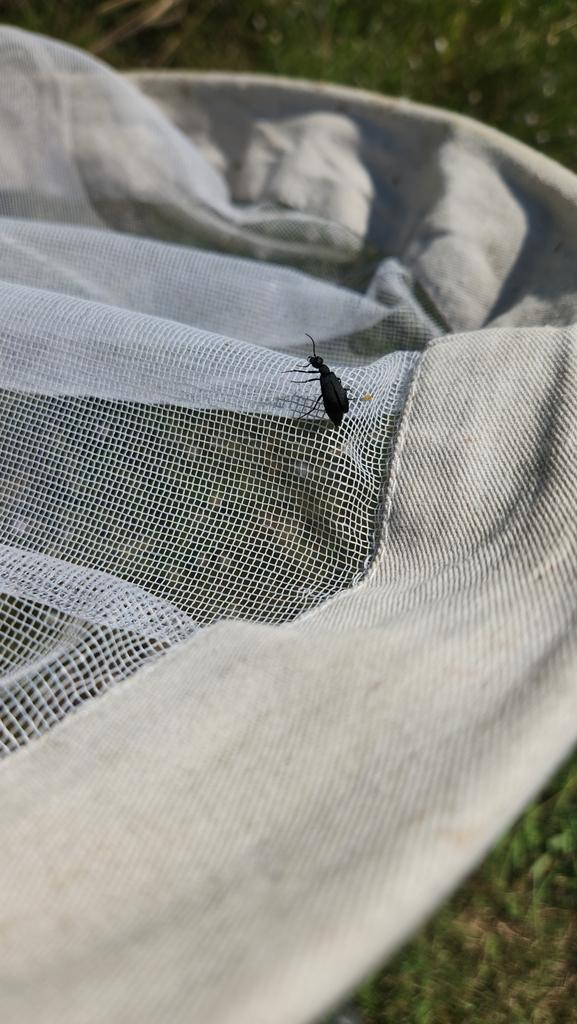blister_beetle: (271, 318, 391, 456)
